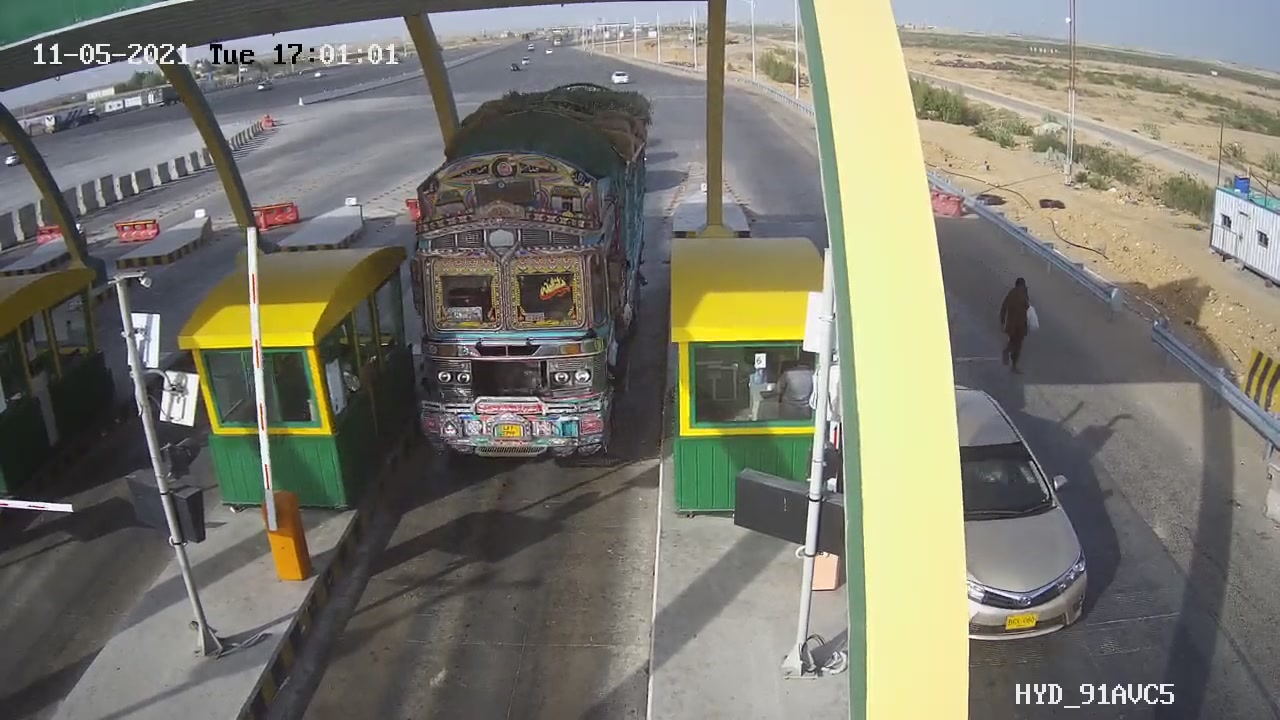F5: (383, 68, 676, 496)
